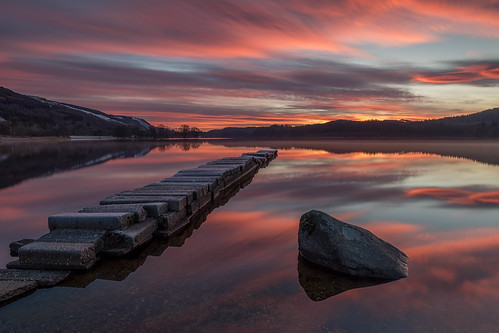river: (3, 140, 499, 333)
rocks: (280, 205, 418, 296)
sky: (1, 1, 499, 113)
